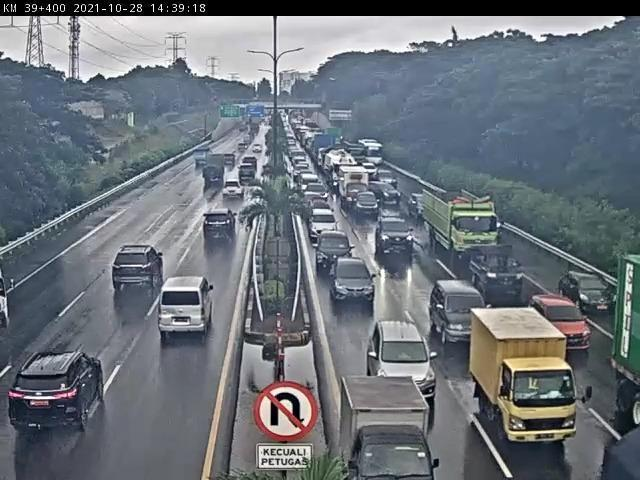car: (8, 352, 104, 434), (369, 322, 437, 397), (430, 281, 488, 347), (532, 293, 592, 350), (160, 279, 215, 335), (467, 243, 524, 296), (561, 270, 619, 312), (111, 245, 163, 289), (330, 257, 378, 302), (317, 231, 354, 273), (376, 218, 416, 256), (309, 208, 338, 242), (203, 210, 232, 237), (372, 183, 403, 204), (355, 192, 380, 215), (410, 192, 433, 215), (305, 191, 326, 211), (222, 181, 245, 199), (308, 199, 332, 215), (306, 184, 329, 200)
truck: (468, 311, 576, 444), (340, 377, 439, 480), (423, 189, 503, 262), (341, 170, 371, 205)
